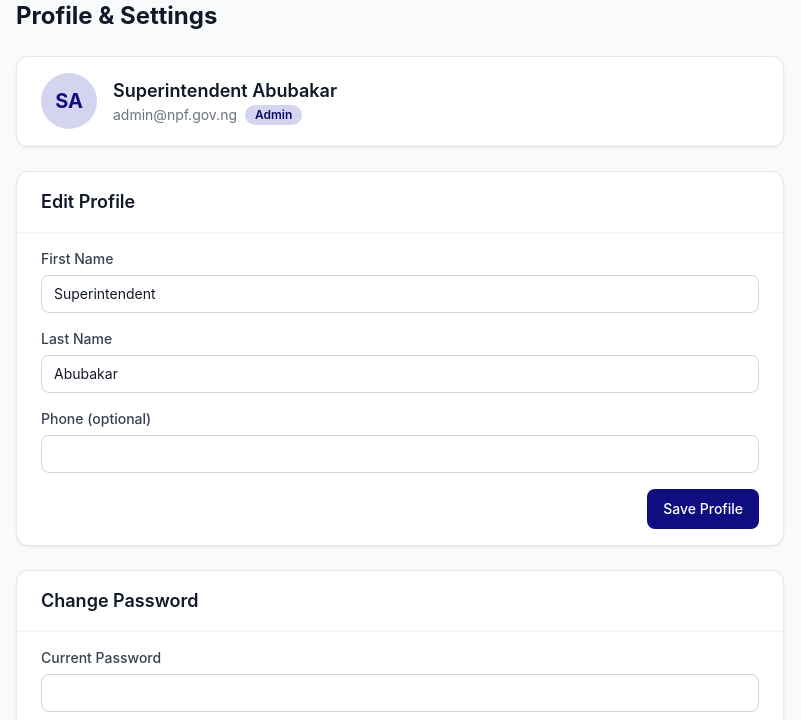
it: ProfileSettingsPage › shows validation error for short password
This screenshot has width=801, height=720.
Expected: the heading "Change Password" is shown, x1=41 y1=590 x2=198 y2=611
Type "old" into the password field labelled "Current Password" at point(400, 693), box x1=41 y1=674 x2=759 y2=712
(page scrolled)
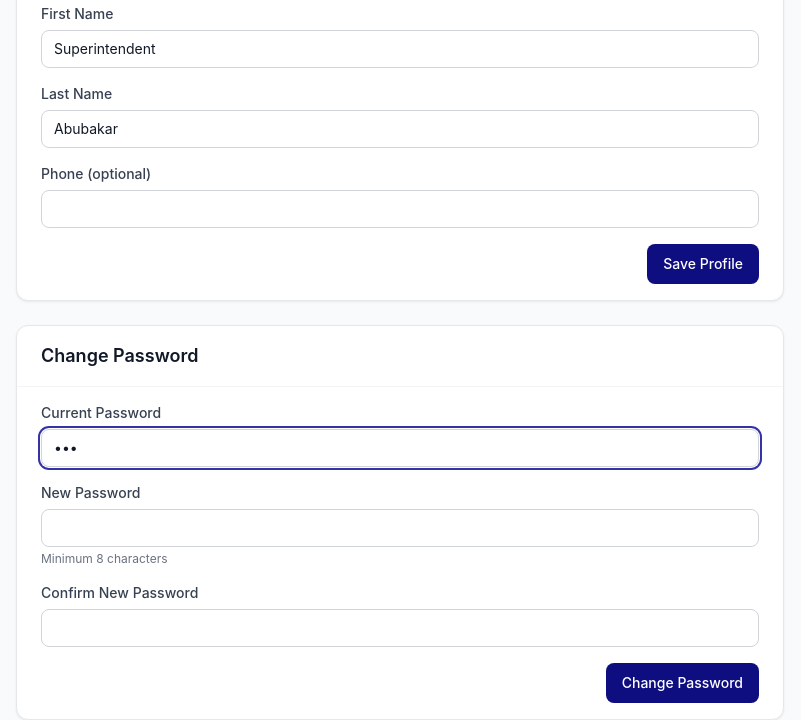
Type "short" into the password field labelled "New Password" at point(400, 528), box x1=41 y1=509 x2=759 y2=547
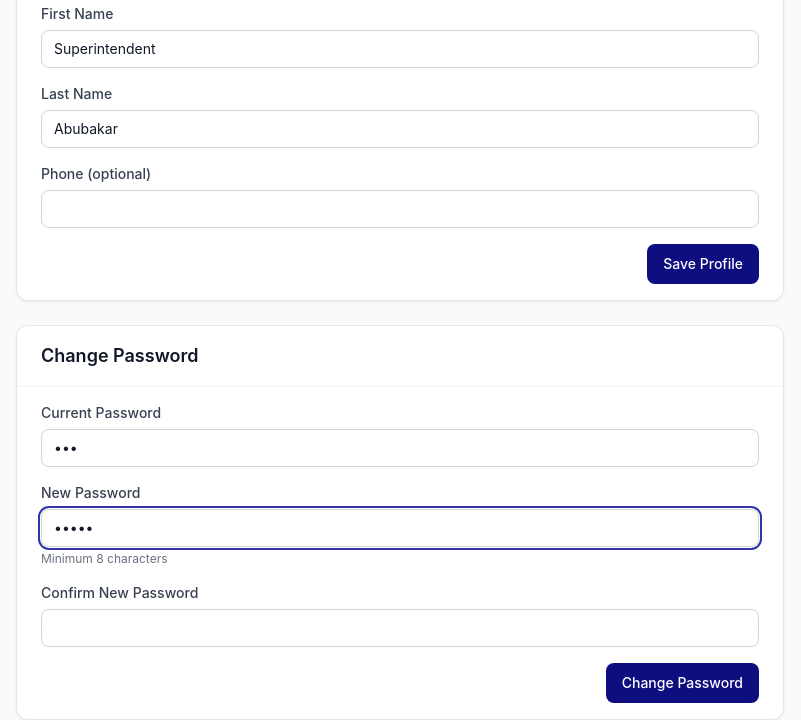
Type "short" into the password field labelled "Confirm New Password" at point(400, 628), box x1=41 y1=609 x2=759 y2=647
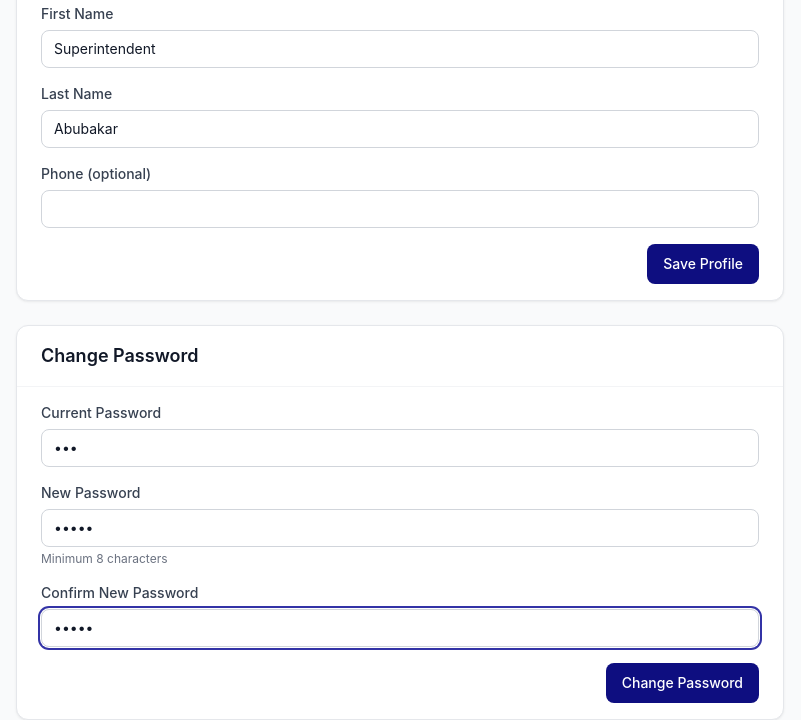
Click the button "Change Password" at point(682, 683), box x1=606 y1=663 x2=759 y2=703
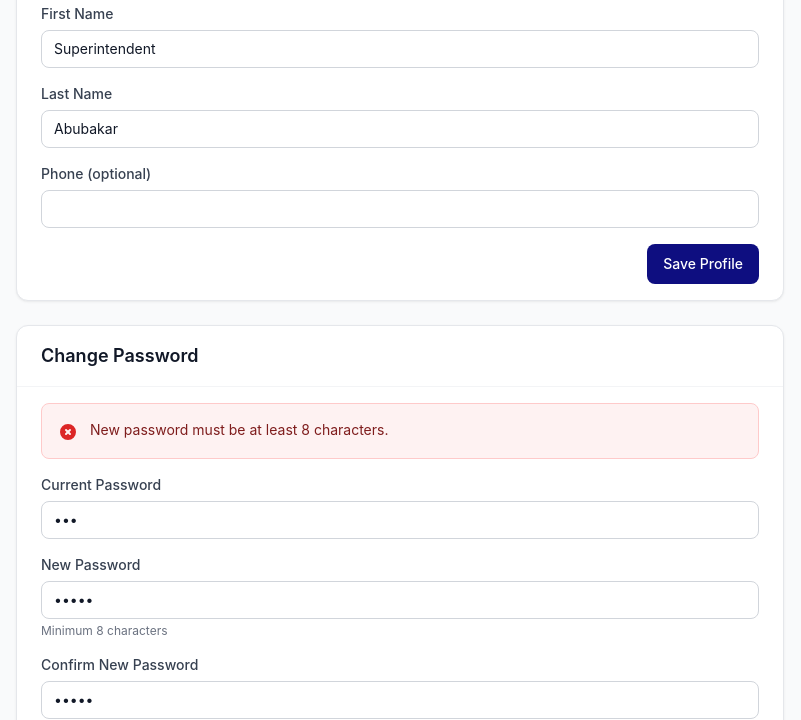
Now the text "New password must be at least 8 characters." is shown, box x1=90 y1=421 x2=388 y2=438
